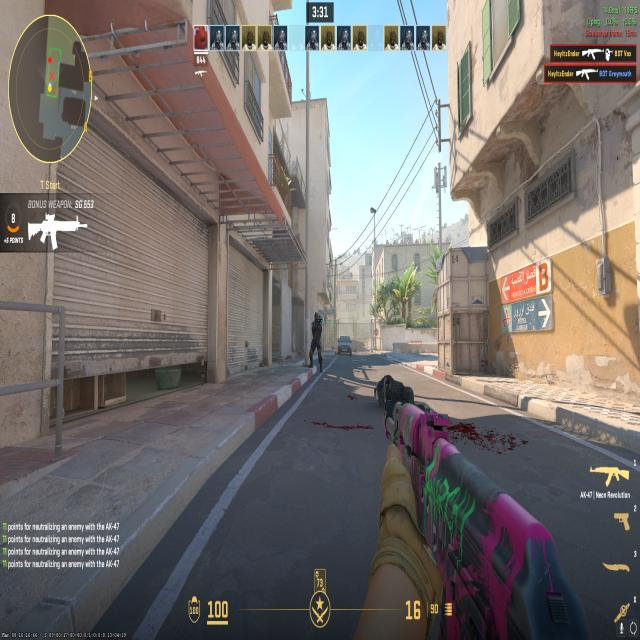ct: (308, 309, 322, 369)
